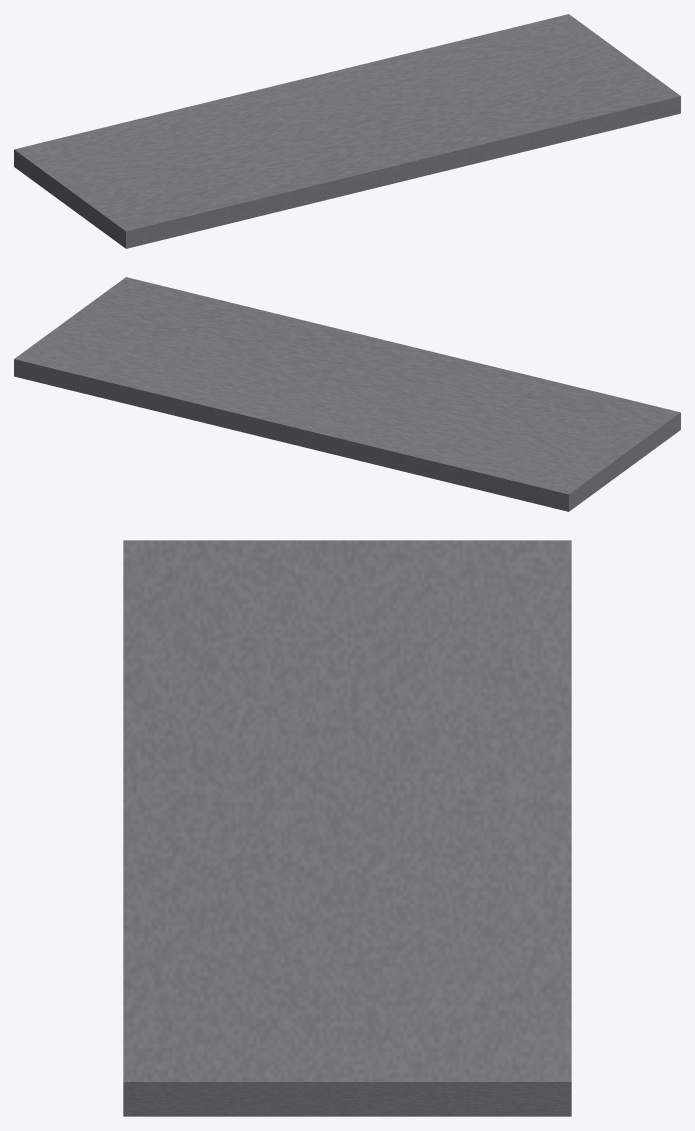
The picture shows the model from 3 angles, top to bottom: view 1: azimuth 30°, elevation 25°; view 2: azimuth 150°, elevation 25°; view 3: azimuth 270°, elevation 25°; orthographic projection. The views are drawn at different scales.
Parts seen in each view (by area): view 1: win_arched_1u_lod0_run001; view 2: win_arched_1u_lod0_run001; view 3: win_arched_1u_lod0_run001.
Boxes of the visible parts, x1,y1,x2,y2 form: win_arched_1u_lod0_run001: [14, 14, 680, 248]; win_arched_1u_lod0_run001: [14, 277, 680, 511]; win_arched_1u_lod0_run001: [123, 540, 571, 1116].
Bounding box in the file's own units: 4 × 0.12 × 1.4.
Materials: 1 (1 with a texture image).
